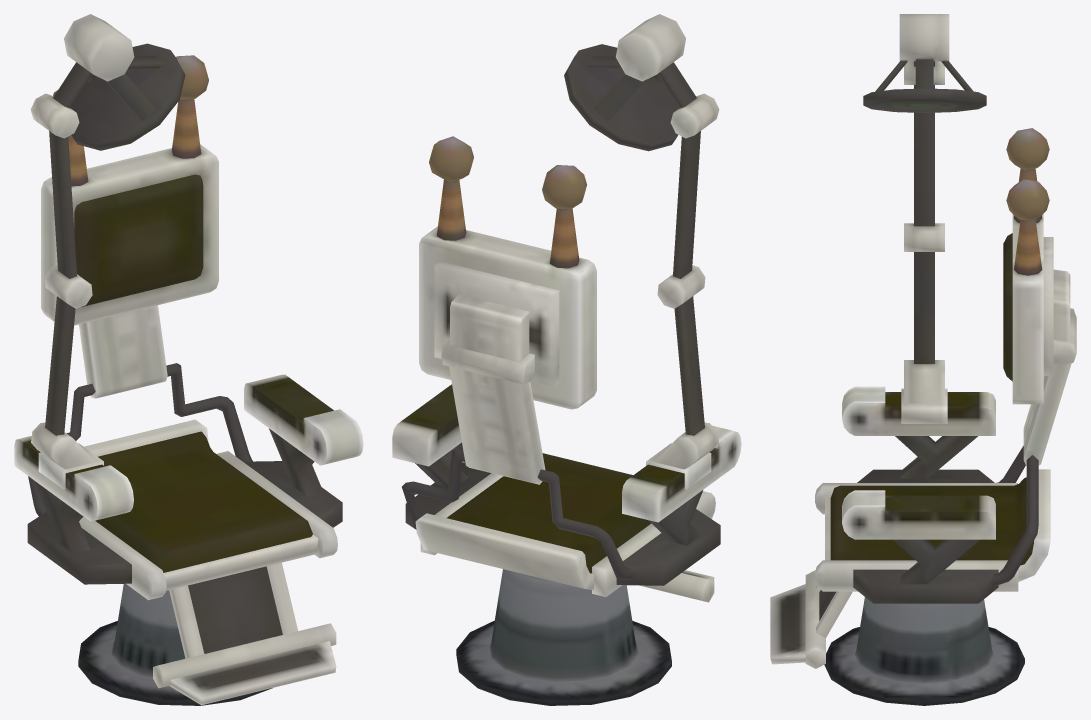
3 renders of one model, left to right at view 1: azimuth 30°, elevation 25°; view 2: azimuth 150°, elevation 25°; view 3: azimuth 270°, elevation 25°, orthographic. The views are drawn at different scales.
Bounding box in the file's own units: 9.57 × 21.66 × 9.9.
Materials: 1 (1 with a texture image).
